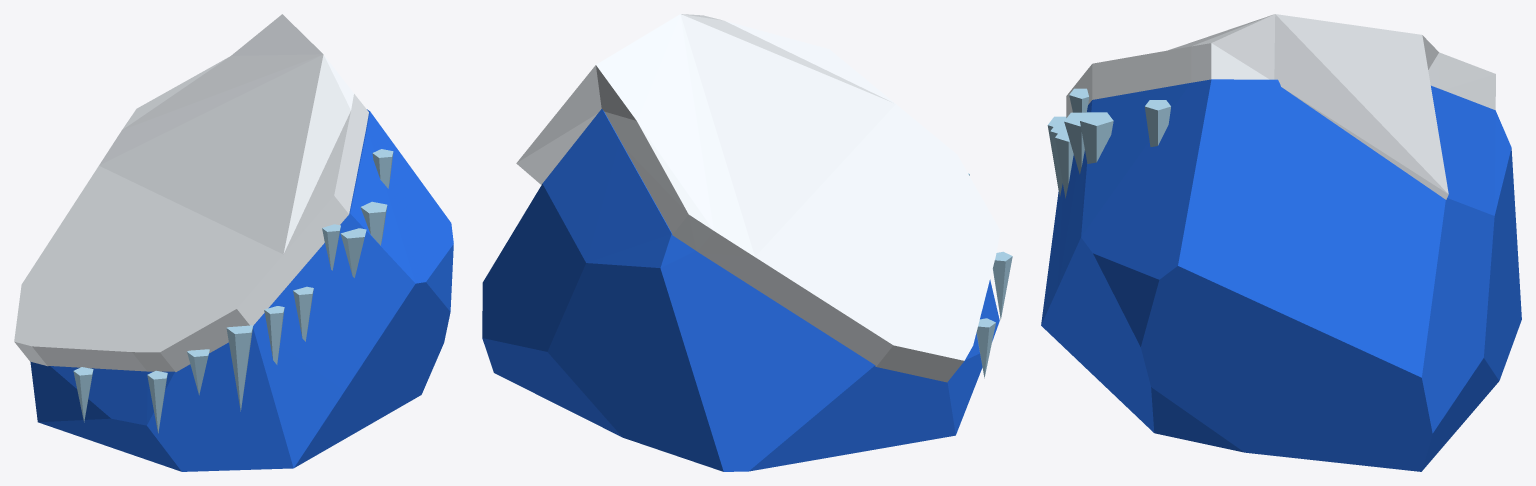
Rendered from DriftBoulder_Split.fbx.
3 renders of one model, left to right at view 1: azimuth 30°, elevation 25°; view 2: azimuth 150°, elevation 25°; view 3: azimuth 270°, elevation 25°, orthographic. The views are drawn at different scales.
Visible parts, largest first — view 1: DriftBoulder_Snow_L, DriftBoulder_PieceA, DriftBoulder_PieceB, DriftBoulder_Snow_R, DriftBoulder_Icicles_L, DriftBoulder_Icicles_R; view 2: DriftBoulder_Snow_L, DriftBoulder_PieceA, DriftBoulder_PieceB, DriftBoulder_Snow_R, DriftBoulder_Icicles_L; view 3: DriftBoulder_PieceB, DriftBoulder_Snow_R, DriftBoulder_PieceA, DriftBoulder_Icicles_R, DriftBoulder_Icicles_L, DriftBoulder_Snow_L.
Part boxes in pixels (x1=…): DriftBoulder_Snow_L: x1=14, y1=86, x2=331, y2=371; DriftBoulder_PieceA: x1=30, y1=243, x2=344, y2=471; DriftBoulder_PieceB: x1=334, y1=109, x2=453, y2=443; DriftBoulder_Snow_R: x1=177, y1=14, x2=368, y2=224; DriftBoulder_Icicles_L: x1=73, y1=225, x2=339, y2=433; DriftBoulder_Icicles_R: x1=332, y1=149, x2=393, y2=277; DriftBoulder_Snow_L: x1=661, y1=53, x2=1000, y2=382; DriftBoulder_PieceA: x1=650, y1=215, x2=999, y2=471; DriftBoulder_PieceB: x1=482, y1=109, x2=661, y2=447; DriftBoulder_Snow_R: x1=516, y1=14, x2=833, y2=213; DriftBoulder_Icicles_L: x1=968, y1=173, x2=1012, y2=378; DriftBoulder_PieceB: x1=1058, y1=79, x2=1509, y2=471; DriftBoulder_Snow_R: x1=1088, y1=14, x2=1483, y2=199; DriftBoulder_PieceA: x1=1041, y1=106, x2=1521, y2=362; DriftBoulder_Icicles_R: x1=1064, y1=95, x2=1170, y2=174; DriftBoulder_Icicles_L: x1=1047, y1=88, x2=1088, y2=198; DriftBoulder_Snow_L: x1=1066, y1=65, x2=1495, y2=117.
Size of the model in its own units: 19.09 by 14.09 by 15.76.
